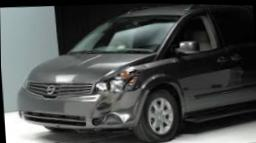Bumper: (85, 87, 145, 131)
Light: (96, 67, 141, 94)
